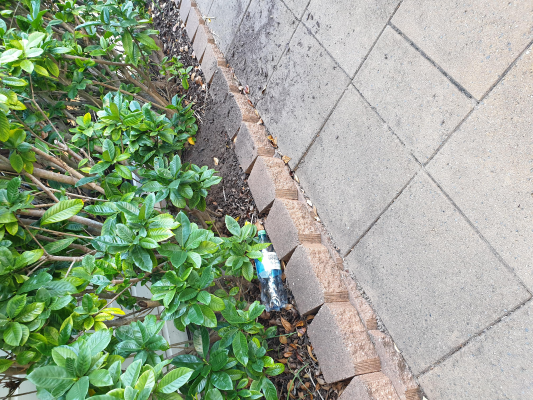Plastic Bottle: (255, 230, 287, 312)
